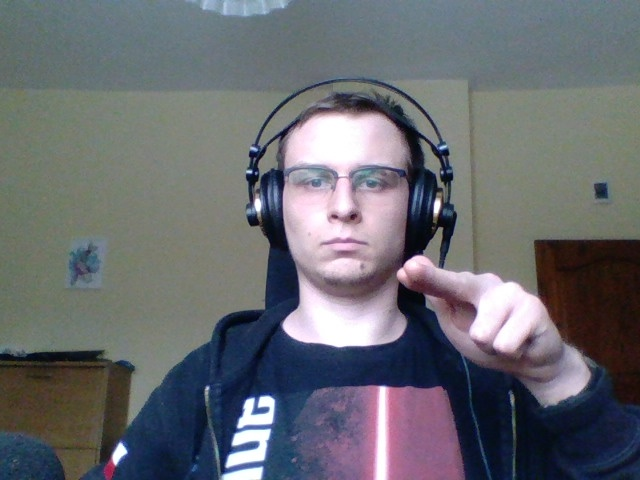no: (398, 243, 571, 386)
